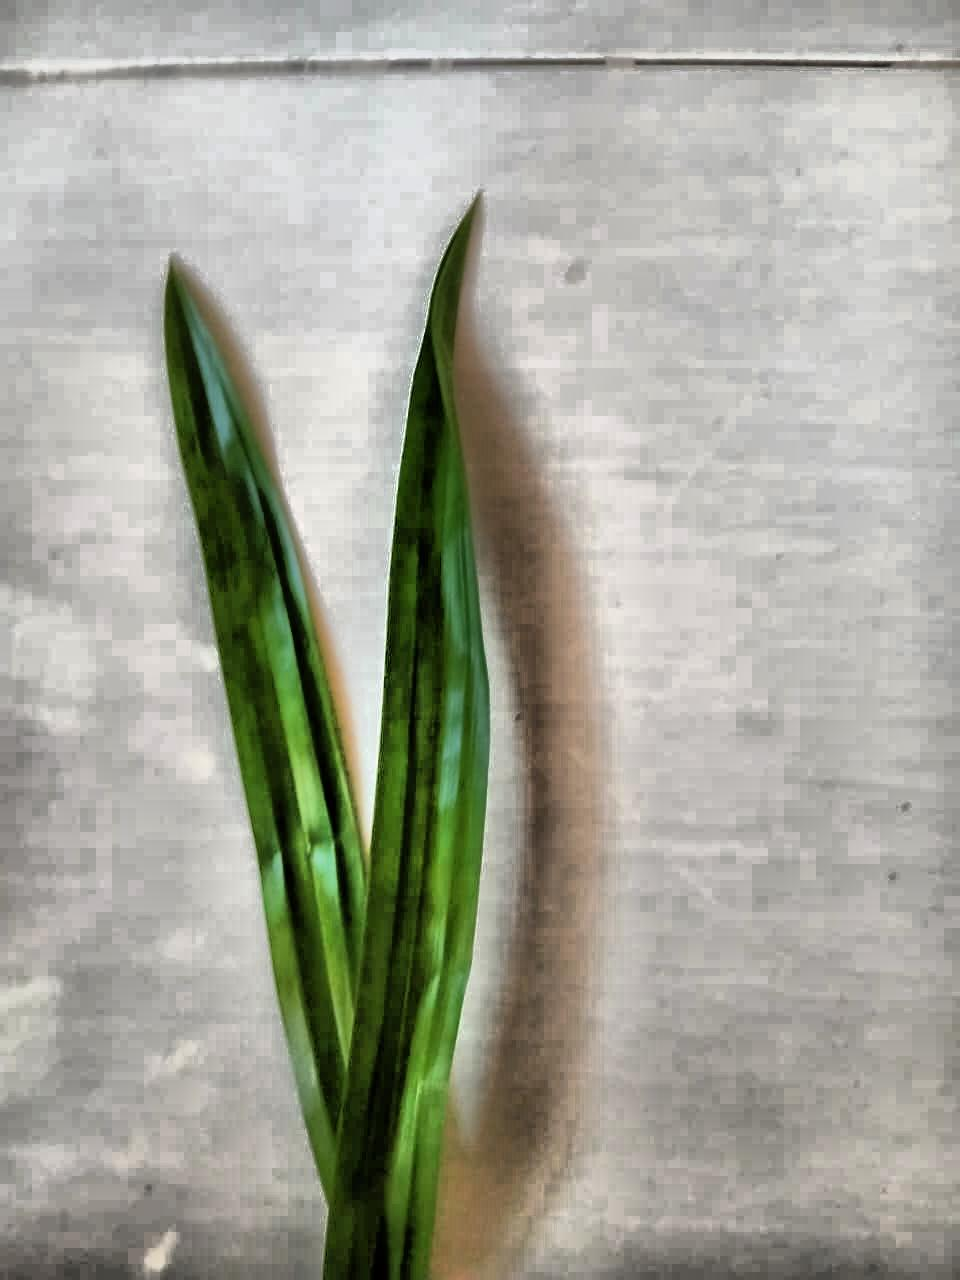daun pandan: (164, 205, 488, 1279)
